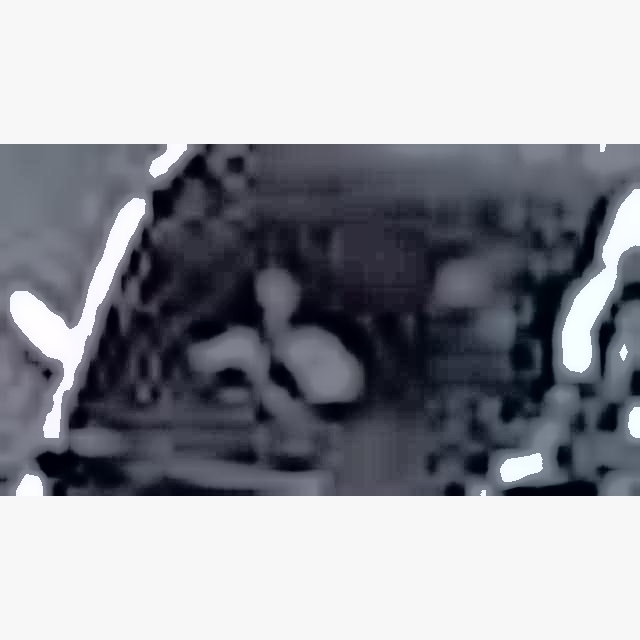pakai: (171, 240, 395, 432)
